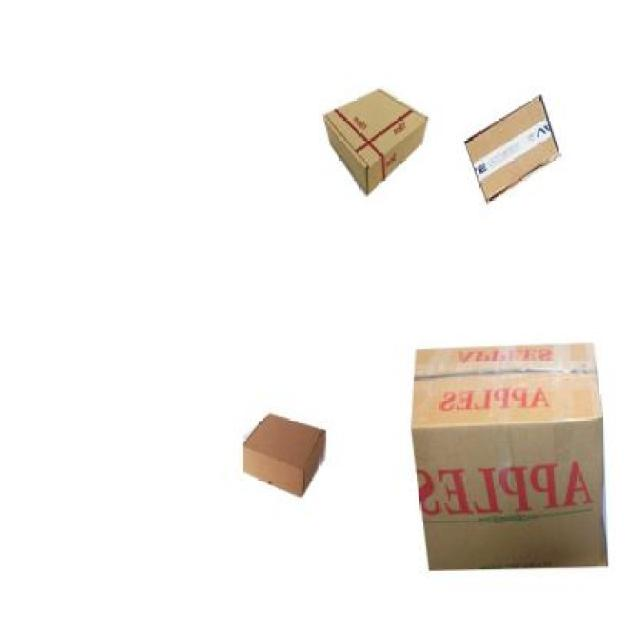cardboxes: (410, 346, 604, 571), (322, 89, 426, 194), (464, 96, 561, 202), (243, 412, 325, 498)
